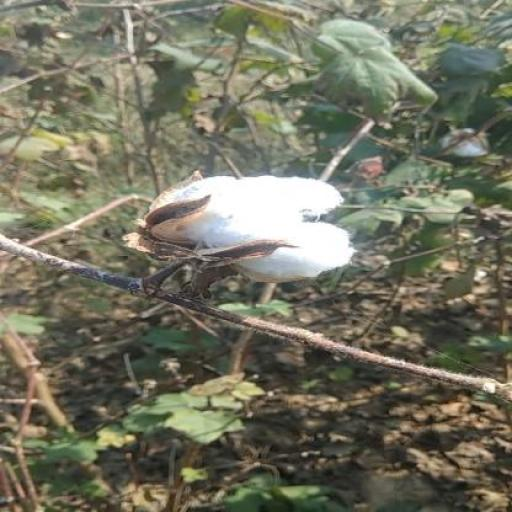cotton_ready: (132, 168, 364, 335)
